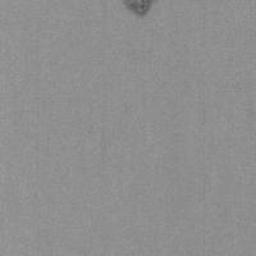Inclusion: (120, 0, 159, 17)
